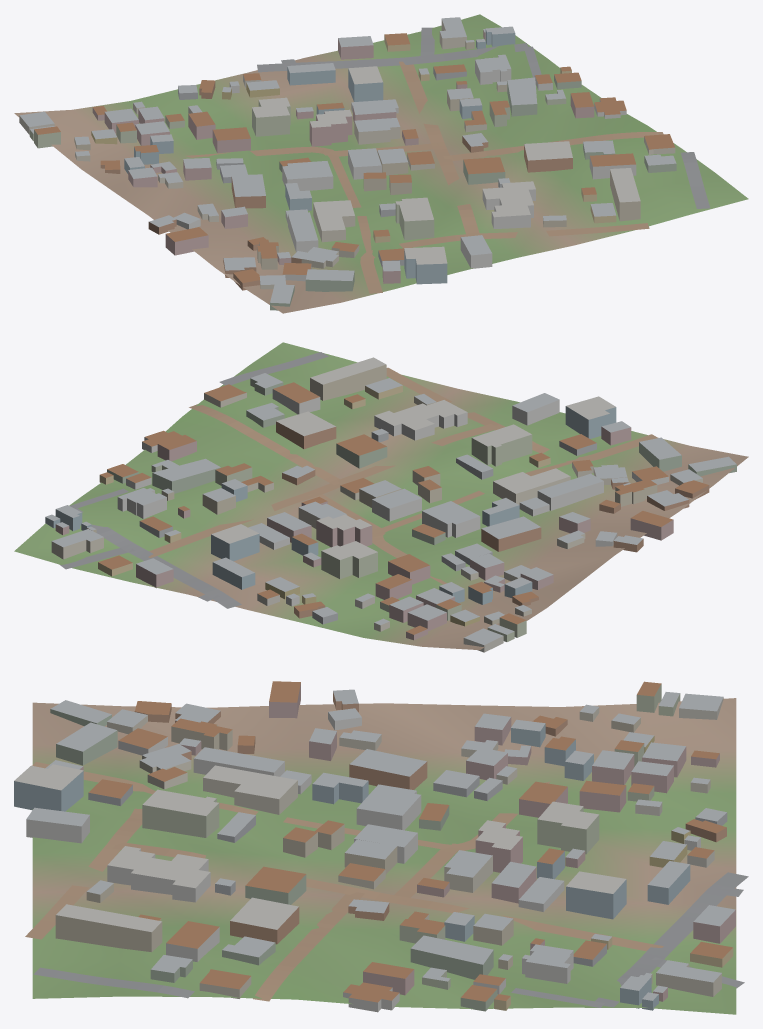
3 renders of one model, top to bottom at view 1: azimuth 30°, elevation 25°; view 2: azimuth 150°, elevation 25°; view 3: azimuth 270°, elevation 25°, orthographic. The views are drawn at different scales.
Parts seen in each view (by area): view 1: Lo; view 2: Lo; view 3: Lo.
Part boxes in pixels (x1,y1,x2,y2): Lo: (14,14,748,313); Lo: (14,342,748,652); Lo: (14,681,748,1014).
Size of the model in its own units: 269 by 16.41 by 267.
